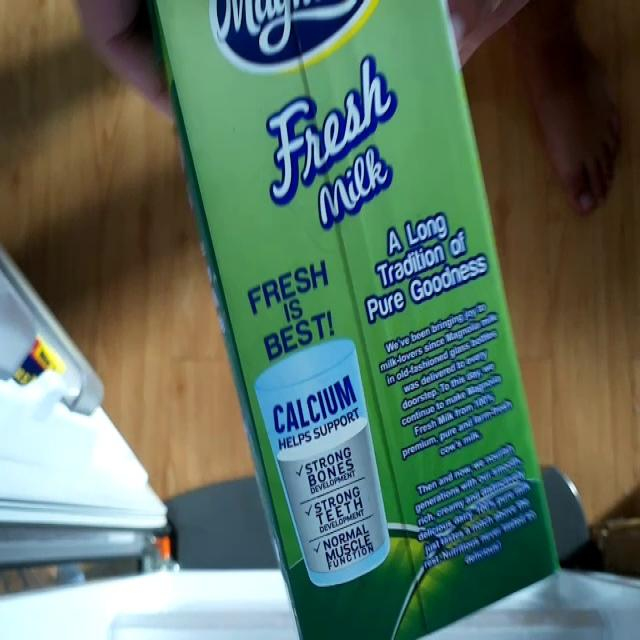milk: (150, 0, 563, 640)
